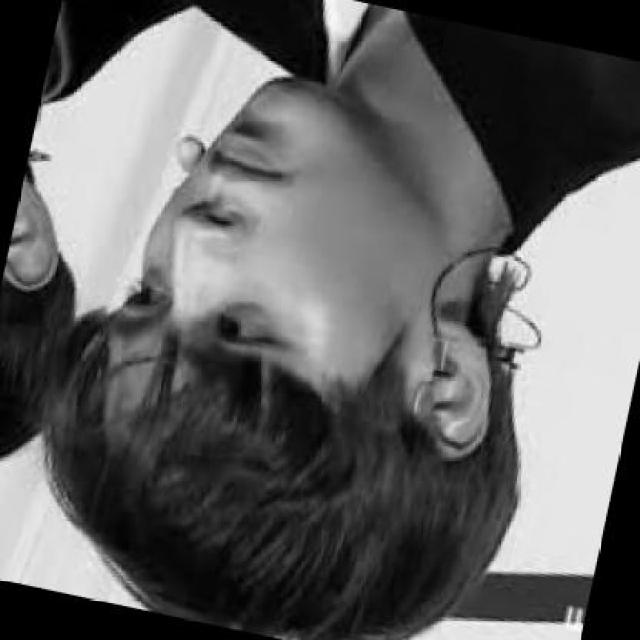earphone: (424, 349, 490, 457)
